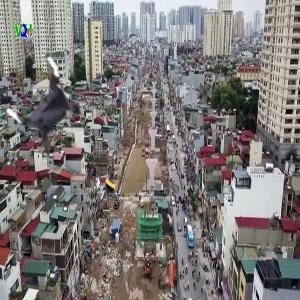drone: (3, 62, 96, 155)
